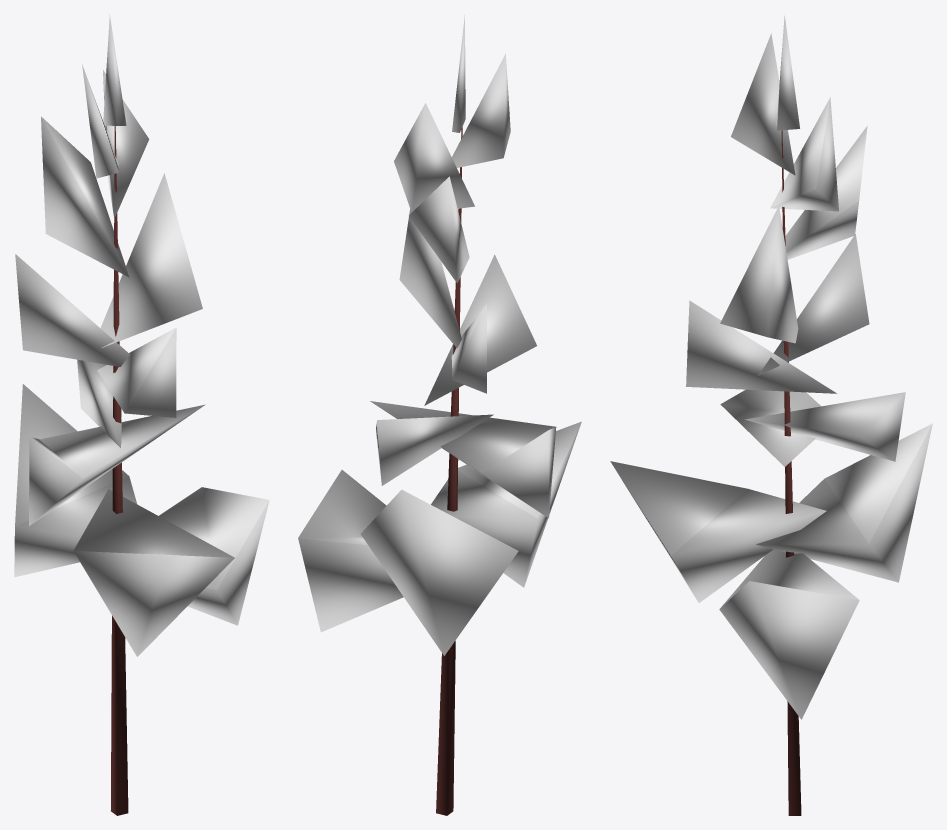
The model's file is whSpruce1Snow_lowest.glb.
3 renders of one model, left to right at view 1: azimuth 30°, elevation 25°; view 2: azimuth 150°, elevation 25°; view 3: azimuth 270°, elevation 25°, orthographic.
Visible parts, largest first — view 1: Cube.001; view 2: Cube.001; view 3: Cube.001.
Boxes of the visible parts, bbox=[...] form: Cube.001: bbox=[14, 14, 269, 815]; Cube.001: bbox=[298, 15, 581, 815]; Cube.001: bbox=[610, 15, 932, 815].
Bounding box in the file's own units: 6.73 × 23.05 × 8.51.
